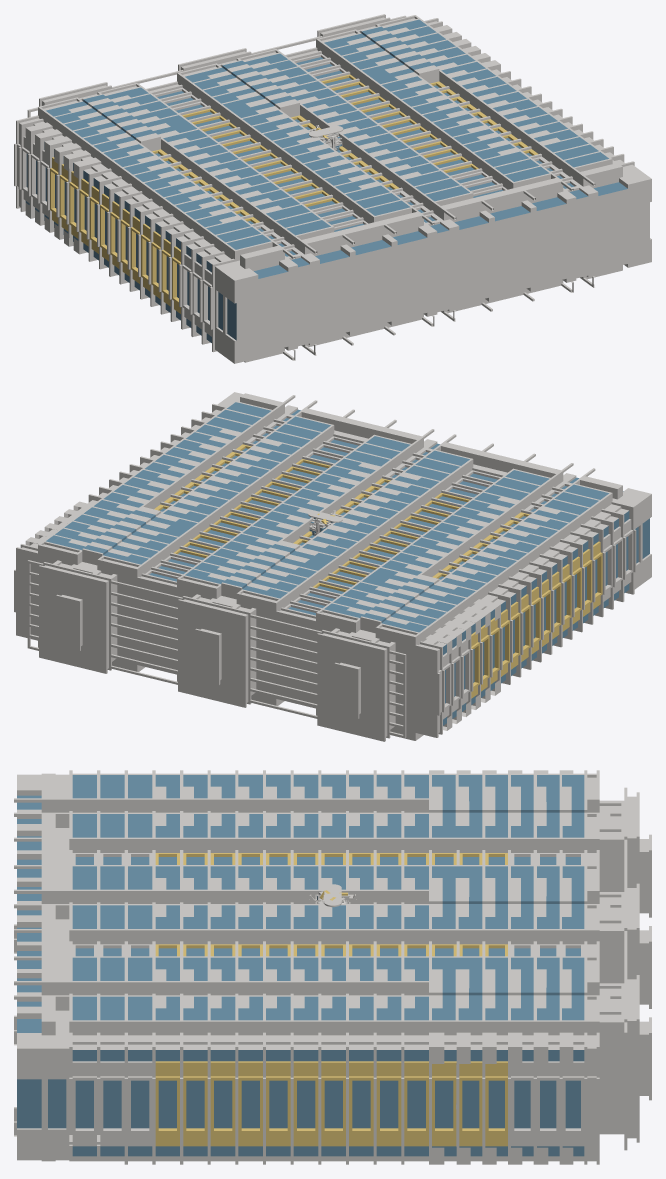
Rendered from buildings.glb.
3 renders of one model, top to bottom at view 1: azimuth 30°, elevation 25°; view 2: azimuth 150°, elevation 25°; view 3: azimuth 270°, elevation 25°, orthographic. The views are drawn at different scales.
Parts seen in each view (by area): view 1: bldg_00; view 2: bldg_00; view 3: bldg_00.
Part boxes in pixels (x1,y1,x2,y2): bldg_00: (14,14,651,363); bldg_00: (14,392,651,741); bldg_00: (14,770,651,1164).
Bounding box in the file's own units: 4.12 × 1 × 3.98.
